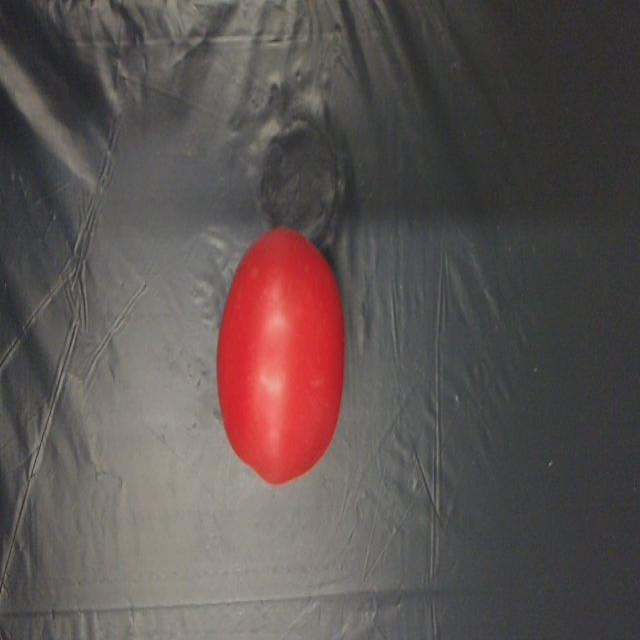kirmizi: (208, 221, 353, 484)
